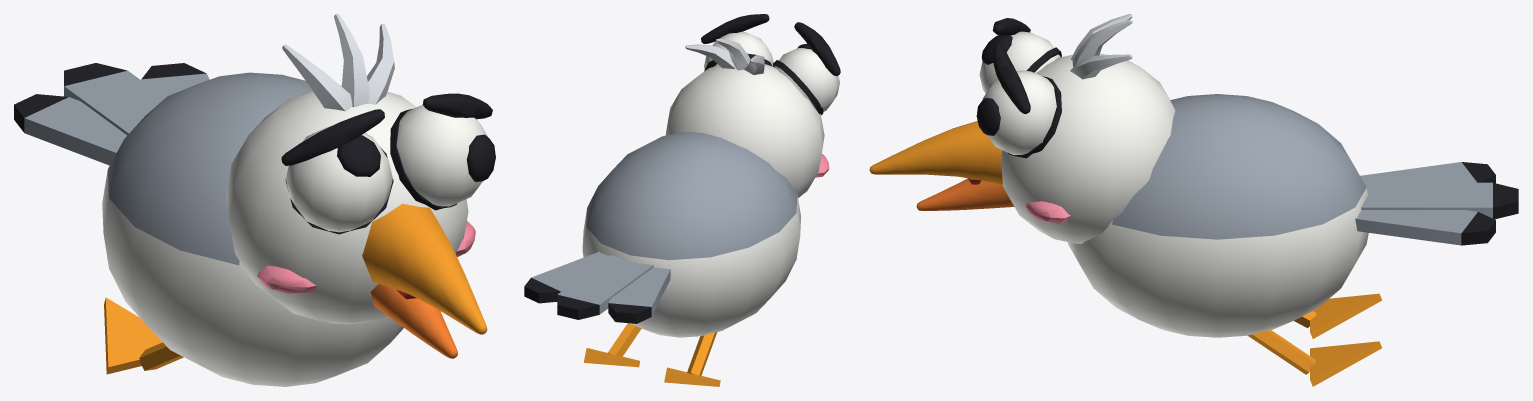
The model's file is Pajaro.fbx.
3 views of the same model, side by side, from view 1: azimuth 30°, elevation 25°; view 2: azimuth 150°, elevation 25°; view 3: azimuth 270°, elevation 25° (orthographic). The views are drawn at different scales.
Parts seen in each view (by area): view 1: Pajaro; view 2: Pajaro; view 3: Pajaro.
Part boxes in pixels (left/top/right/bottom): Pajaro: left=14, top=14, right=495, bottom=386; Pajaro: left=524, top=14, right=840, bottom=386; Pajaro: left=869, top=14, right=1518, bottom=386.
Size of the model in its own units: 1.9 by 2.77 by 4.83.
Materials: 1 (1 with a texture image).
